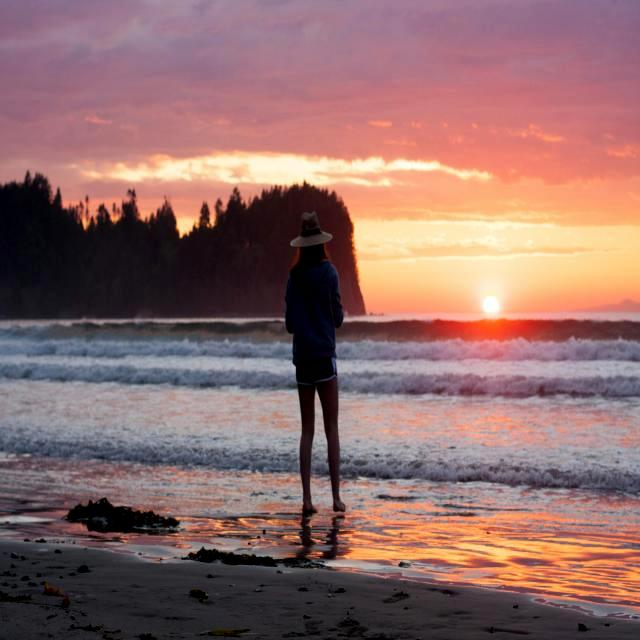no_hard_hat: (291, 211, 333, 247)
person: (285, 211, 345, 515)
